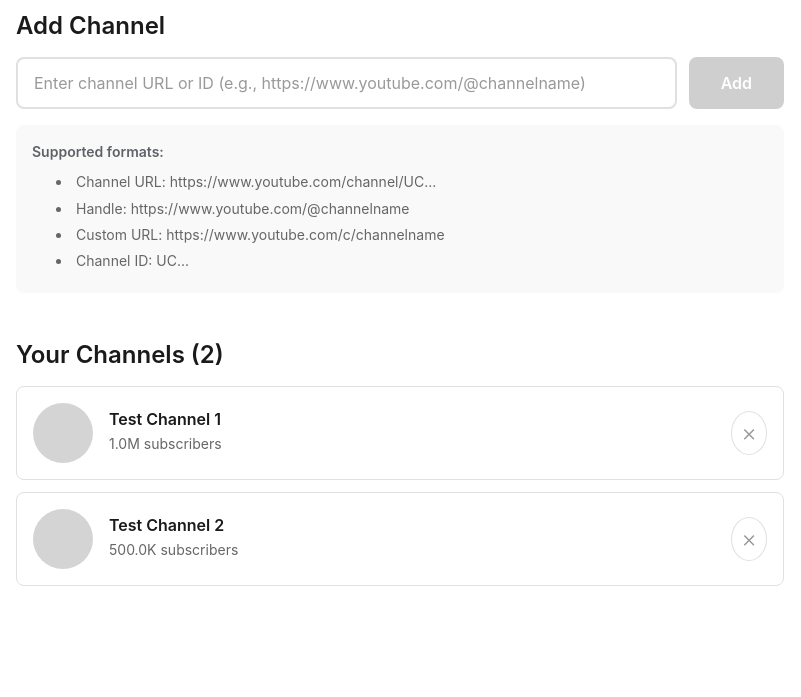
Test case: ChannelManager › shows error when channel is already in list
This screenshot has width=801, height=697.
Replace the text in the field with placeholder "Enter channel URL or ID" with "UC123" at (346, 83), box left=16, top=57, right=677, bottom=109
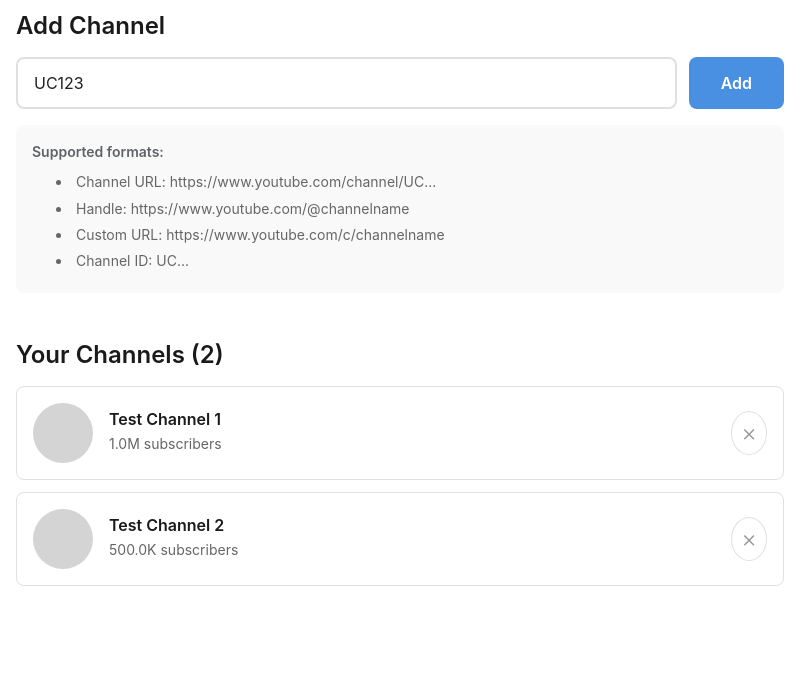
Click the button with aria-label "Add channel".
click(736, 83)  # box left=689, top=57, right=784, bottom=109
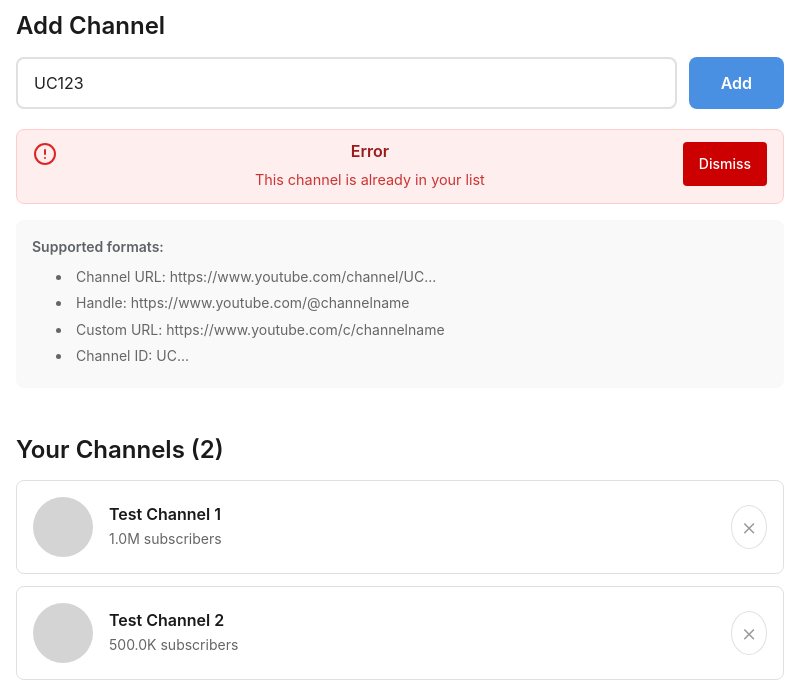
Result: the text "This channel is already in your list" is shown at left=255, top=171, right=485, bottom=188
